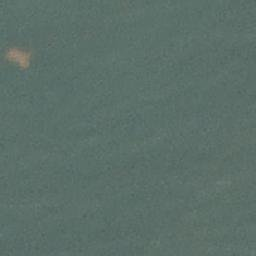debris: (5, 46, 33, 72)
